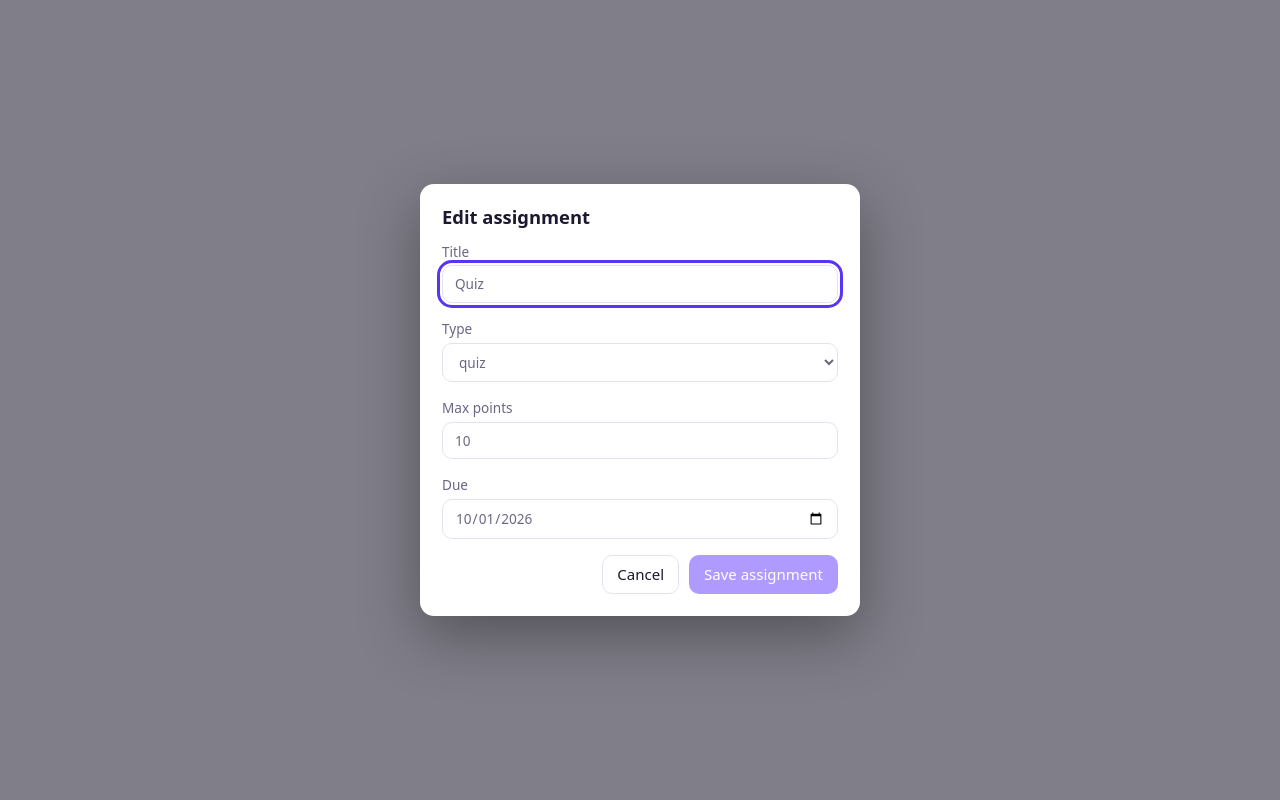
Test: Assessment editing › keeps the draft and dialog open when saving fails
Replace the text in the field labelled "Title" with "Retry quiz" at (640, 284), box [442,265,838,303]
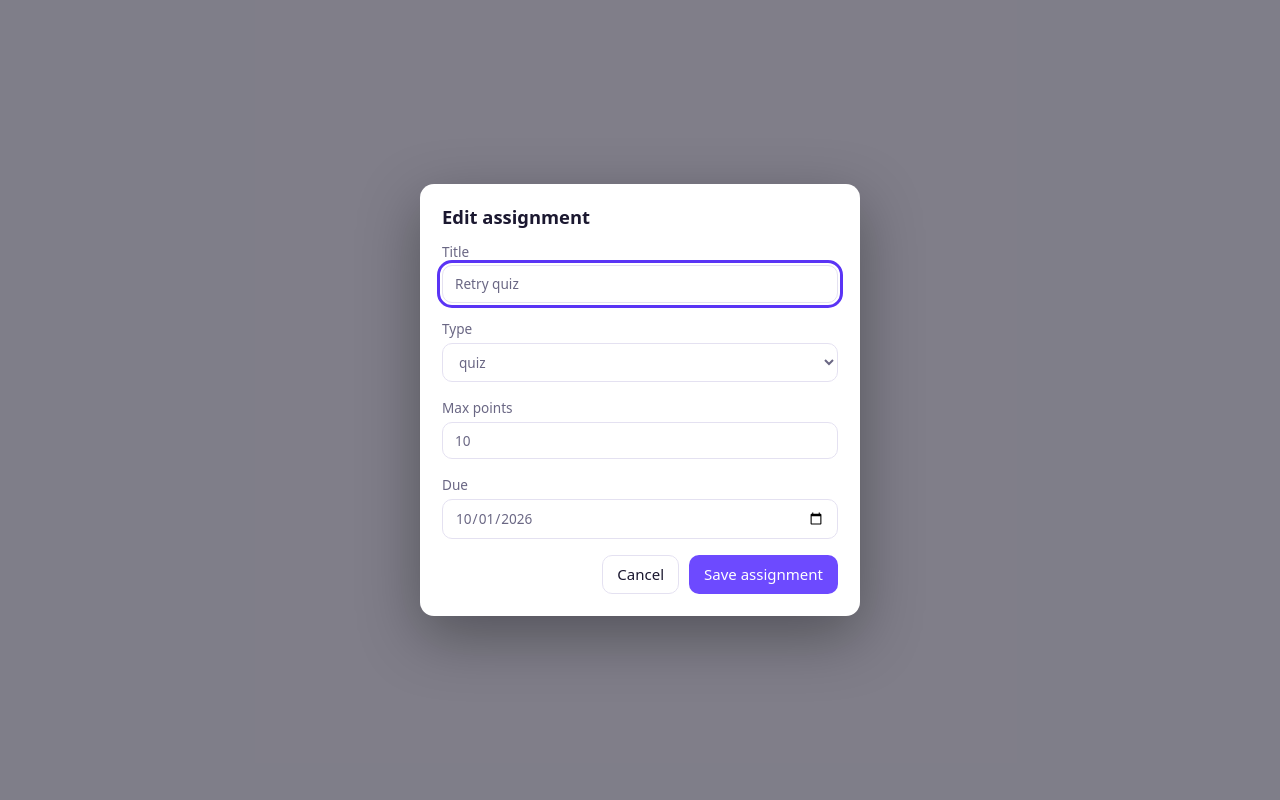
Click the button "Save assignment" at (764, 574), box [689,555,838,594]
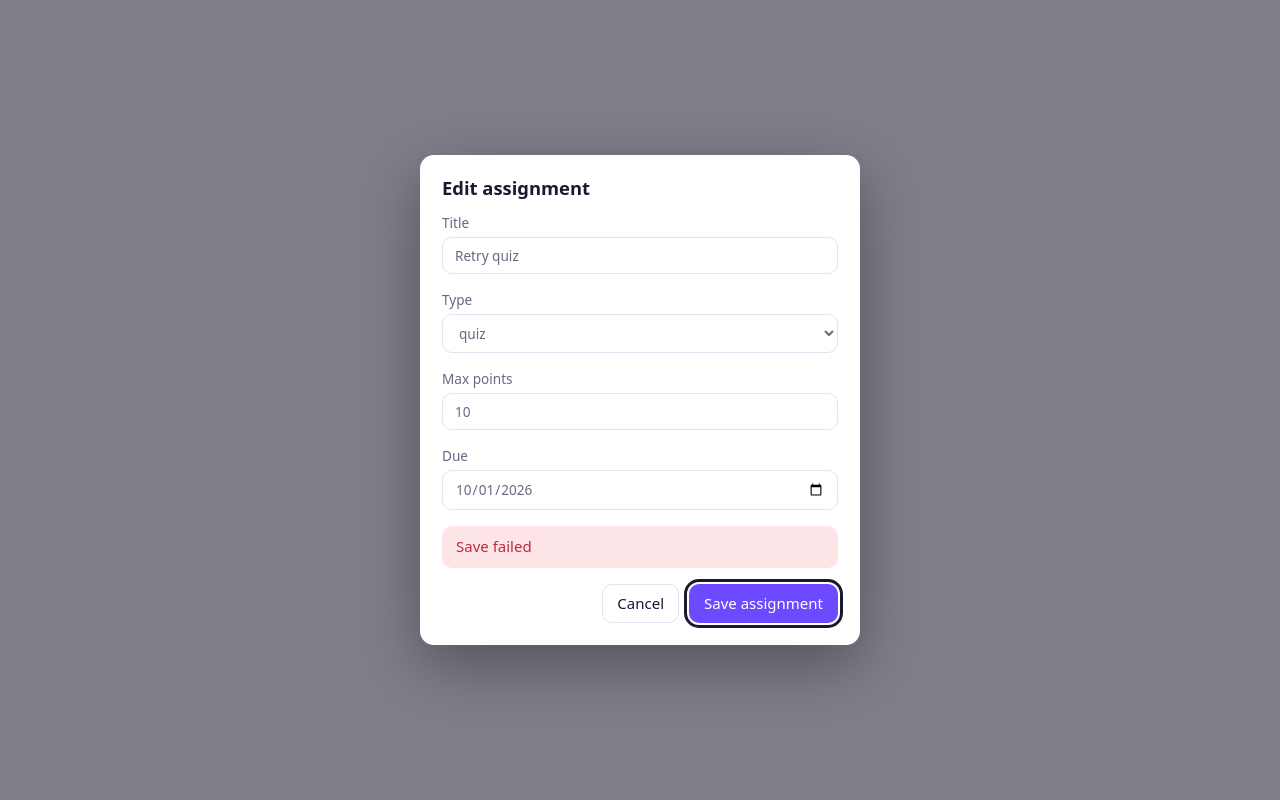
Check: the message reads "Save failed", box [456,536,532,556]
